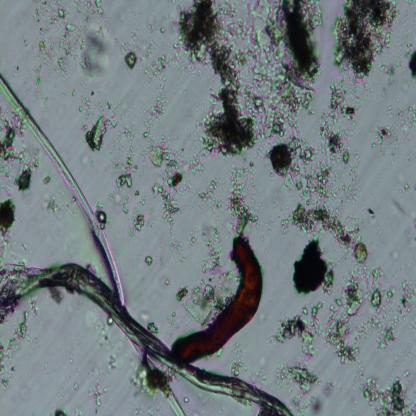Background material: (175, 1, 261, 155), (332, 0, 399, 78), (283, 203, 369, 262), (262, 0, 322, 81), (258, 67, 310, 134), (328, 268, 362, 364), (272, 300, 324, 360), (176, 269, 226, 322), (366, 266, 398, 348), (0, 310, 29, 398), (292, 238, 335, 296), (109, 105, 144, 171), (272, 135, 315, 188), (362, 374, 416, 415), (228, 166, 256, 235), (77, 24, 112, 76), (151, 186, 179, 236), (320, 121, 353, 162), (280, 362, 321, 394), (142, 86, 168, 136), (95, 326, 123, 372), (384, 96, 416, 136), (0, 115, 26, 164), (304, 374, 337, 412), (327, 84, 357, 122), (66, 80, 96, 116), (314, 163, 342, 201), (342, 153, 364, 200), (30, 1, 60, 35), (204, 226, 227, 268), (143, 136, 173, 167), (38, 40, 67, 72), (196, 179, 223, 210), (85, 115, 107, 151), (371, 122, 397, 150), (146, 51, 168, 82), (163, 161, 186, 190), (0, 197, 17, 235), (107, 187, 131, 213), (402, 280, 416, 315), (89, 383, 109, 407), (127, 214, 146, 238), (364, 204, 379, 234), (46, 198, 64, 222), (17, 164, 32, 191), (134, 186, 150, 211), (164, 234, 183, 254), (393, 172, 408, 197), (114, 173, 133, 191), (123, 50, 138, 71), (407, 46, 416, 80), (91, 0, 104, 18), (97, 209, 108, 223), (52, 405, 66, 415), (44, 176, 54, 187), (143, 256, 153, 267), (65, 23, 75, 32), (58, 10, 66, 18)
Cellulose filter fibre: (0, 261, 296, 415), (0, 73, 126, 301), (131, 345, 185, 415)
Natural material: (172, 237, 264, 366)
